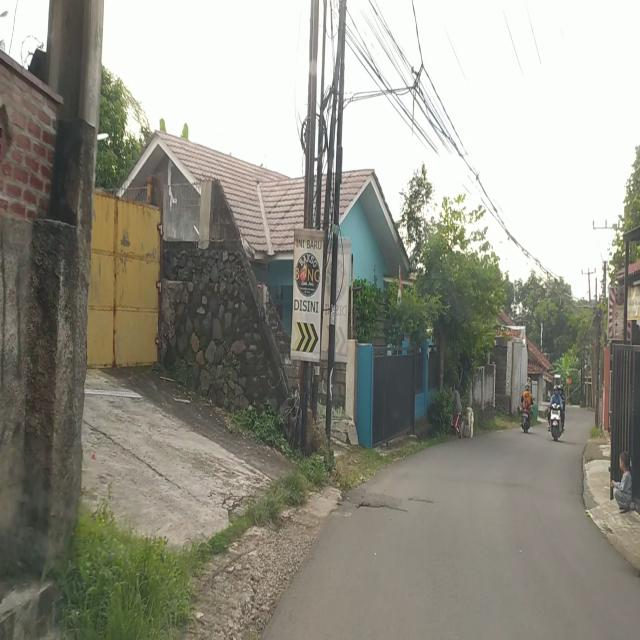Sewer Cover: (354, 498, 408, 515), (407, 494, 436, 506)
